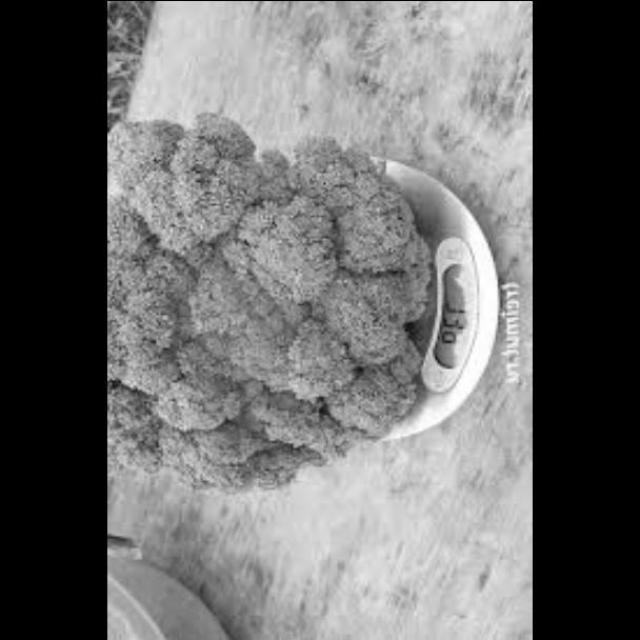broccoli: (115, 104, 416, 492)
